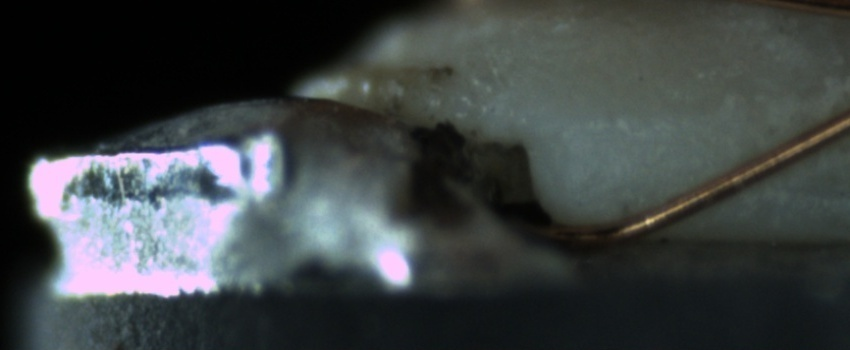DL: (561, 100, 715, 155)
